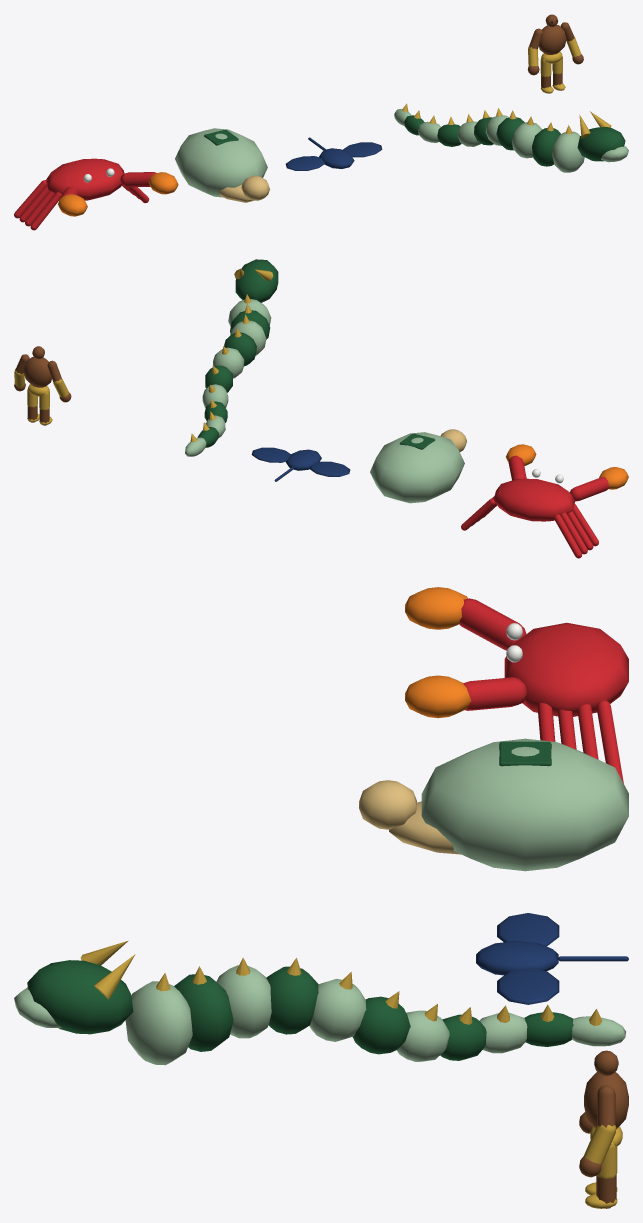
File: saltspray.glb
3 renders of one model, top to bottom at view 1: azimuth 30°, elevation 25°; view 2: azimuth 150°, elevation 25°; view 3: azimuth 270°, elevation 25°, orthographic. The views are drawn at different scales.
Visible parts, largest first — view 1: shell, body (×3), seg_1, seg_2, claw_L, seg_3, seg_4, torso, claw_R, seg_5, head, seg_9 (+8 smaller); view 2: shell, body (×2), seg_1, claw_R, claw_L, torso, seg_5, seg_6, seg_4, seg_7, seg_2, wing_R (+3 smaller); view 3: shell, body (×3), seg_1, seg_2, claw_L, claw_R, seg_3, seg_4, seg_5, seg_6, seg_7, head (+10 smaller).
Part boxes in pixels (x1,y1,x2,y2): shell: [175, 128, 267, 197]; body (×3): [46, 148, 354, 202]; seg_1: [577, 111, 628, 162]; seg_2: [552, 125, 584, 172]; claw_L: [120, 172, 178, 194]; seg_3: [532, 122, 560, 166]; seg_4: [511, 116, 542, 158]; torso: [539, 24, 566, 54]; claw_R: [58, 186, 87, 216]; seg_5: [496, 110, 524, 150]; head: [241, 175, 269, 200]; seg_9: [437, 116, 461, 146]; shell: [370, 432, 464, 503]; body (×2): [286, 449, 575, 521]; seg_1: [234, 259, 278, 302]; claw_R: [570, 467, 628, 501]; claw_L: [506, 444, 536, 480]; torso: [23, 356, 51, 387]; seg_5: [224, 328, 256, 366]; seg_6: [212, 346, 244, 378]; seg_4: [230, 314, 266, 355]; seg_7: [205, 365, 232, 392]; seg_2: [228, 294, 271, 326]; wing_R: [309, 461, 350, 476]; shell: [421, 738, 628, 871]; body (×3): [389, 622, 628, 975]; seg_1: [14, 940, 135, 1034]; seg_2: [125, 973, 192, 1065]; claw_L: [405, 675, 527, 718]; claw_R: [405, 587, 526, 650]; seg_3: [174, 966, 233, 1051]; seg_4: [216, 957, 271, 1038]; seg_5: [266, 958, 318, 1034]; seg_6: [309, 971, 366, 1041]; seg_7: [353, 991, 410, 1054]; head: [359, 780, 416, 829].
Bounding box in the file's own units: 119 × 17.44 × 56.45.
